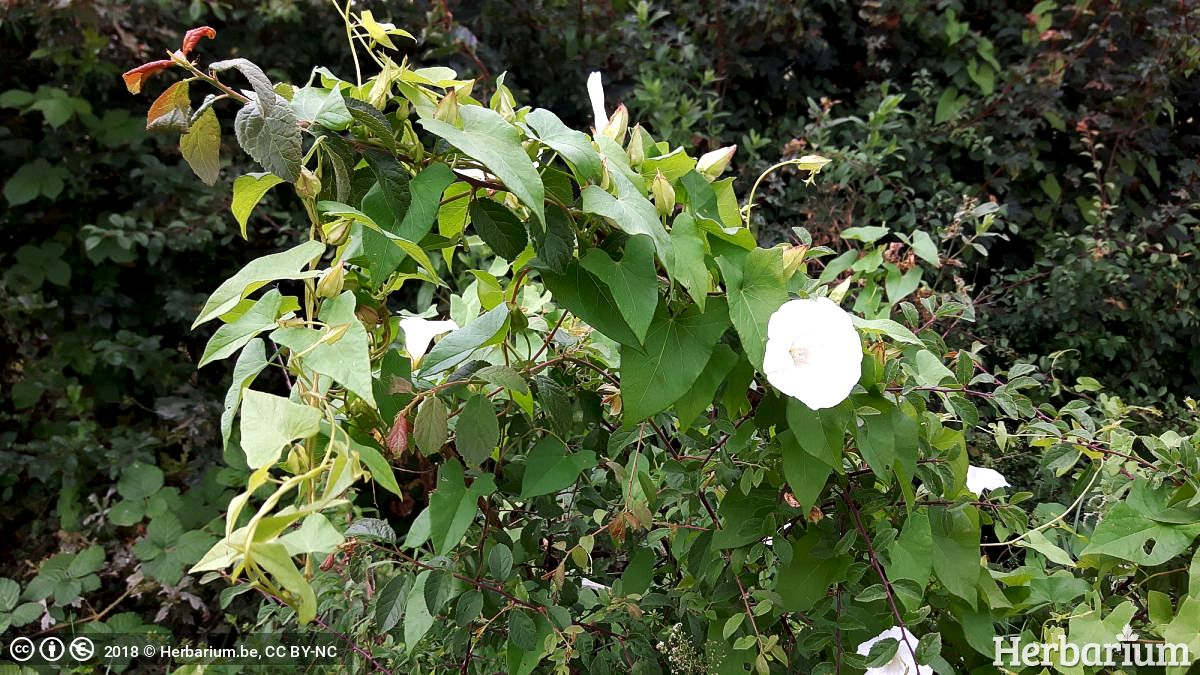haagwinde: (545, 193, 753, 459), (754, 271, 866, 439), (402, 422, 519, 560)
